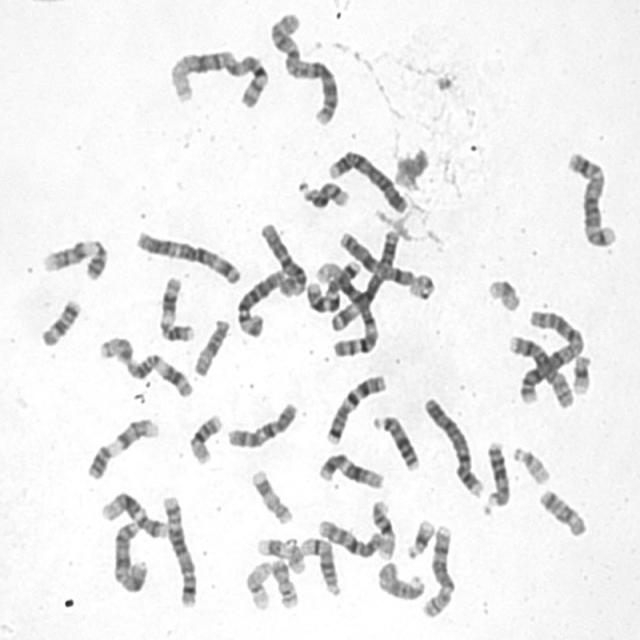A1: (310, 258, 382, 359), (164, 44, 270, 110)
A2: (264, 7, 342, 128), (515, 303, 587, 407)
A3: (326, 224, 402, 333), (130, 224, 243, 286)
B4: (420, 390, 486, 499), (324, 144, 410, 215)
B5: (562, 144, 618, 248), (158, 489, 200, 609)
C10: (222, 396, 300, 450), (312, 514, 386, 559)
C11: (120, 347, 194, 400), (154, 270, 196, 344)
C12: (96, 486, 170, 540), (314, 447, 386, 491)
C6: (255, 217, 308, 298), (232, 264, 288, 338)
C7: (321, 368, 389, 446), (306, 258, 360, 314)
C8: (503, 329, 576, 410), (418, 520, 457, 619)
C9: (82, 411, 161, 481), (37, 232, 109, 281)
D13: (367, 408, 421, 472), (480, 435, 512, 512)
D14: (296, 532, 342, 598), (295, 175, 352, 211)
D15: (188, 313, 231, 378), (372, 556, 427, 603)
E16: (183, 408, 224, 466), (367, 496, 398, 560)
E17: (247, 464, 294, 526), (253, 532, 309, 575)
E18: (534, 482, 589, 538), (36, 293, 82, 348)
F19: (240, 556, 274, 612), (482, 272, 522, 314)
F20: (267, 554, 300, 610), (99, 336, 135, 367)
G21: (402, 514, 436, 560), (568, 348, 594, 396)
G22: (508, 441, 552, 486), (404, 268, 438, 301)
X: (335, 226, 415, 287), (108, 515, 150, 594)
